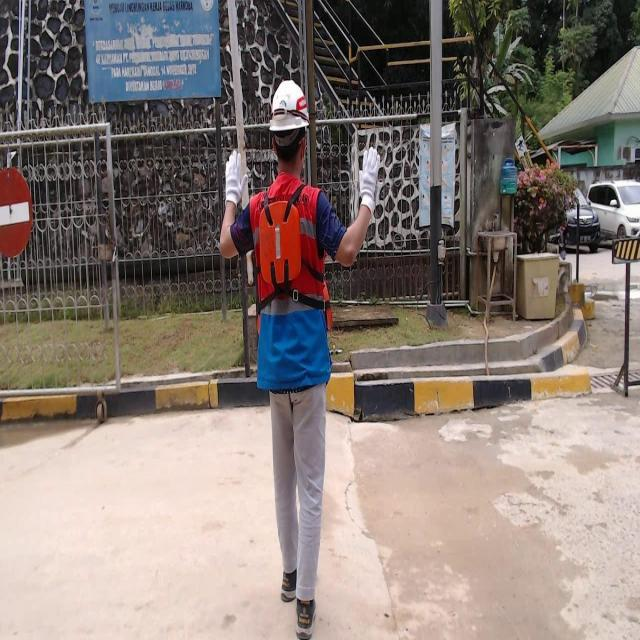Vest: (258, 199, 303, 288)
